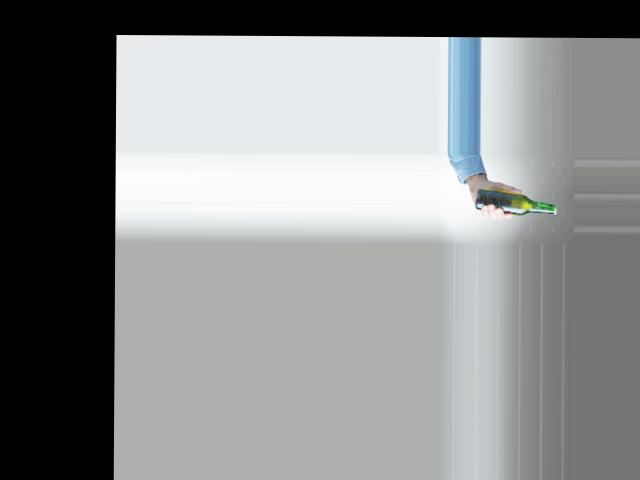beer: (476, 188, 556, 216)
